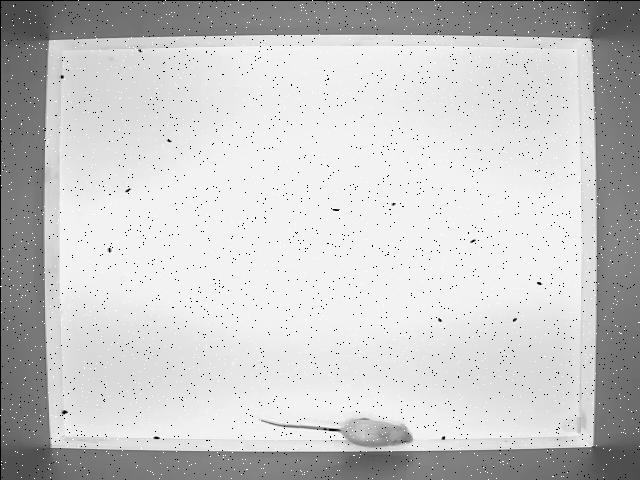Tikus: (256, 415, 419, 447)
